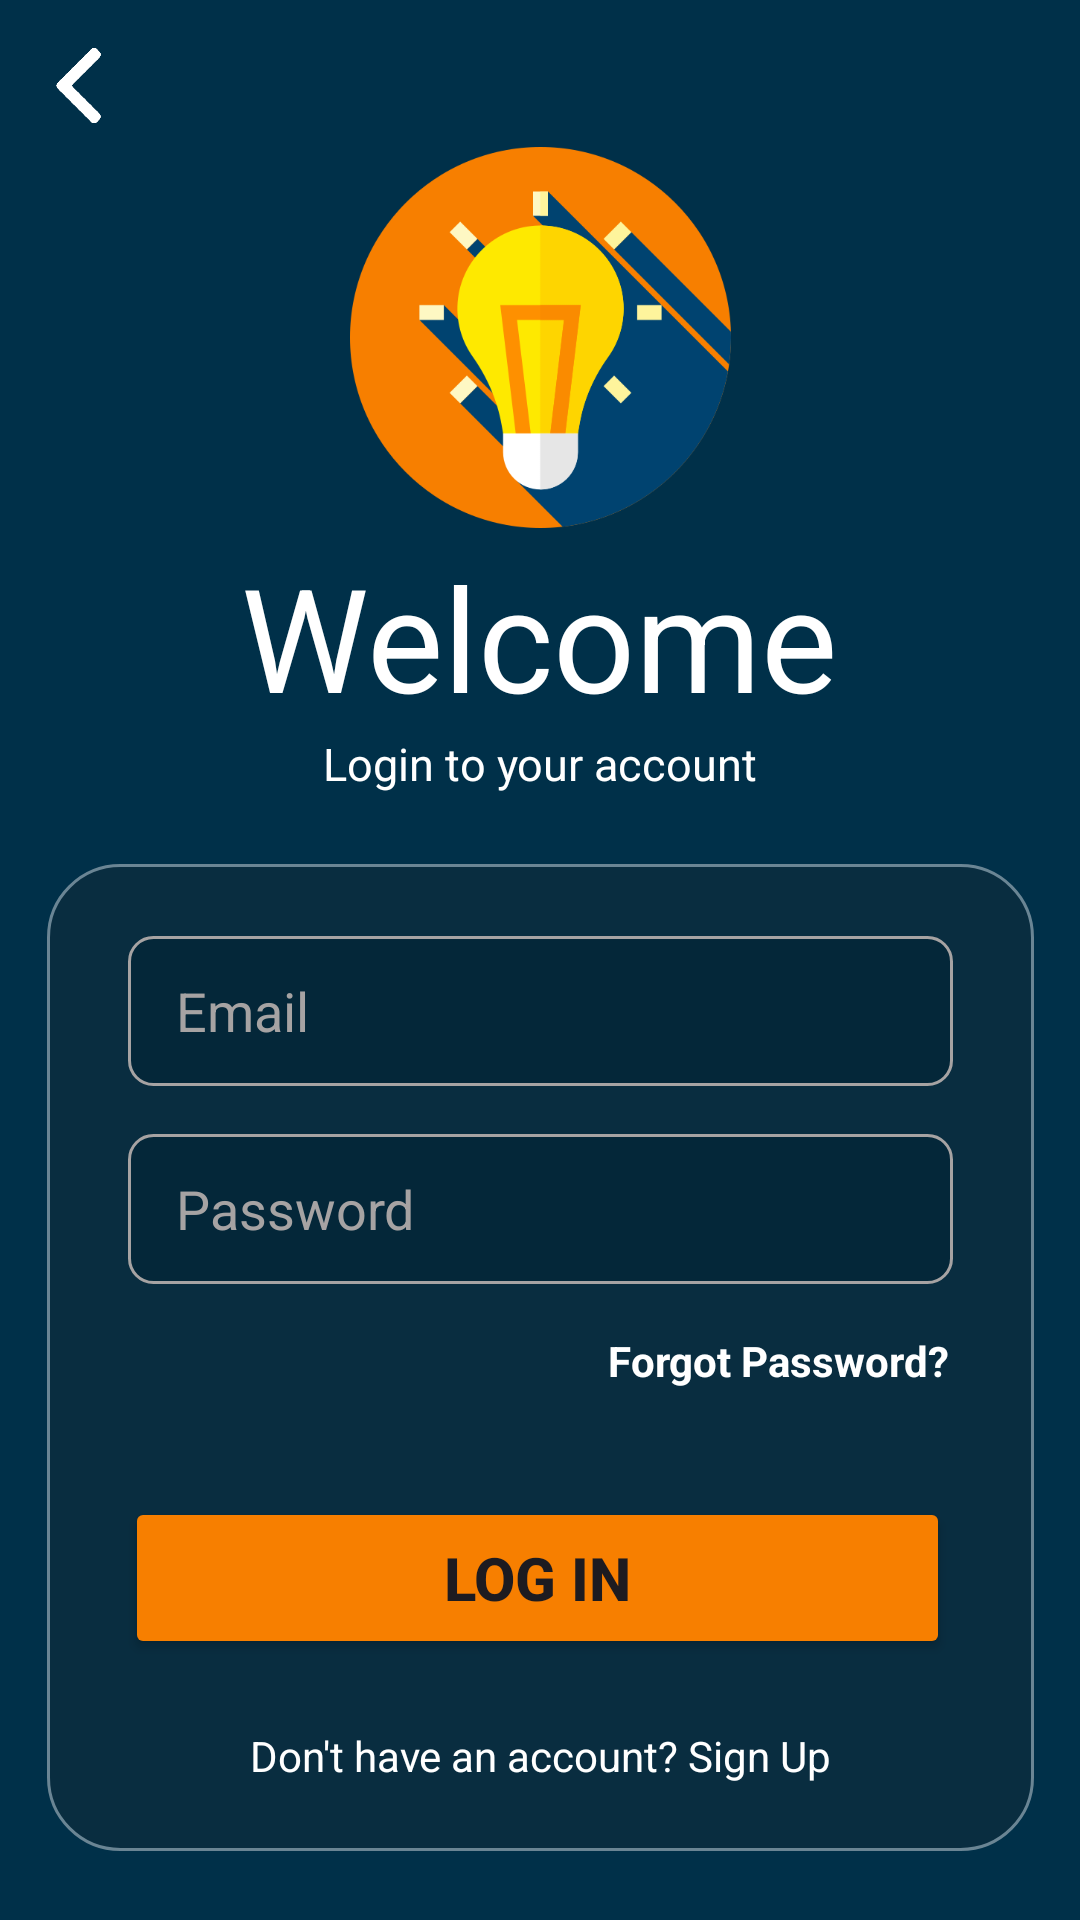

Where to tap for icons on this 1080*1920 app screen, as (x=x, y=y):
back: (x=78, y=85)
